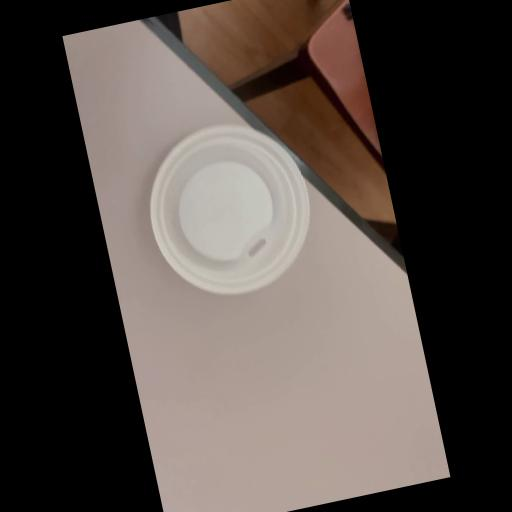lp_cup_lids: (130, 104, 327, 312)
